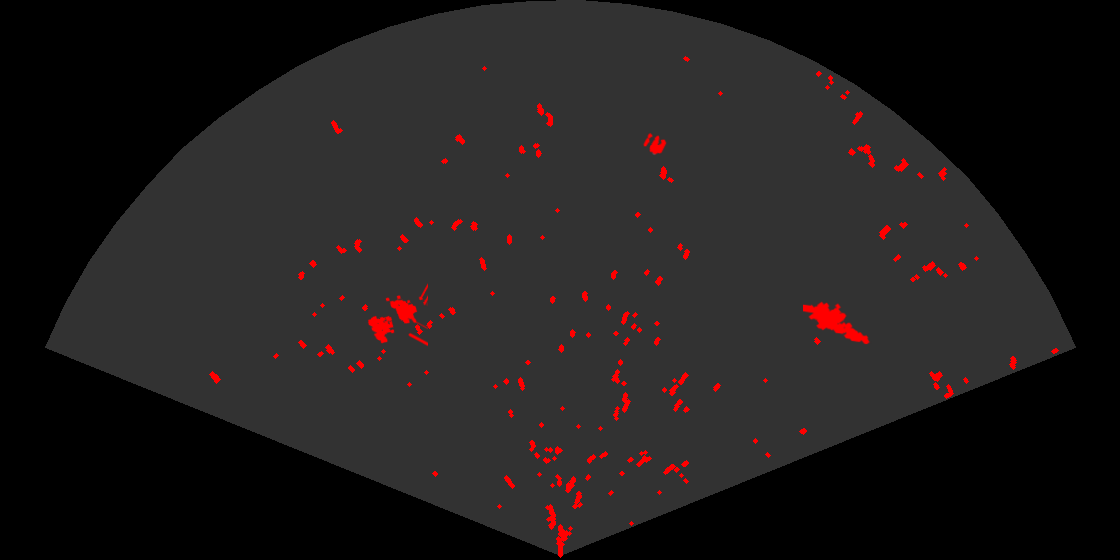ball: (642, 131, 668, 156)
cage: (366, 282, 428, 348)
frogman: (803, 300, 872, 346)
